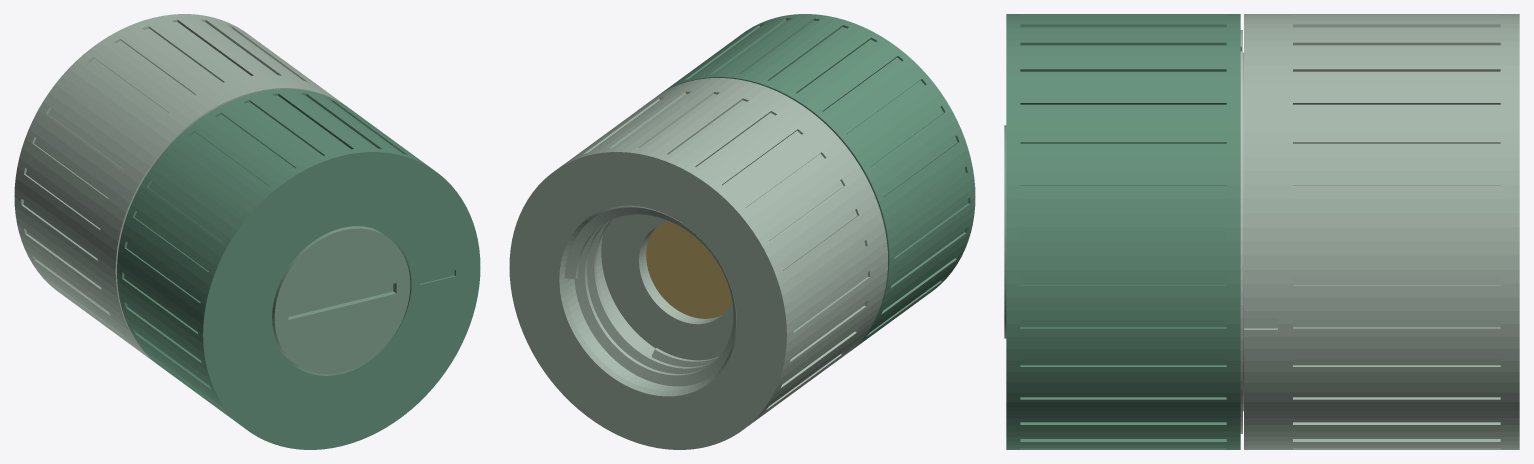
The model's file is LiftMix_v3_closed.glb.
3 renders of one model, left to right at view 1: azimuth 30°, elevation 25°; view 2: azimuth 150°, elevation 25°; view 3: azimuth 270°, elevation 25°, orthographic. The views are drawn at different scales.
Visible parts, largest first — view 1: twist_crown, body, top_retainer; view 2: body, twist_crown, plunger; view 3: body, twist_crown, guide_lid, top_retainer.
Boxes of the visible parts, x1,y1,x2,y2 form: twist_crown: [117, 89, 480, 449]; body: [14, 14, 345, 362]; top_retainer: [272, 226, 410, 374]; body: [509, 78, 887, 449]; twist_crown: [659, 14, 975, 351]; plunger: [646, 221, 731, 318]; body: [1243, 14, 1519, 449]; twist_crown: [1006, 14, 1240, 449]; guide_lid: [1240, 30, 1242, 433]; top_retainer: [1004, 125, 1006, 338].
Bounding box in the file's own units: 46.2 × 46.2 × 54.6.
